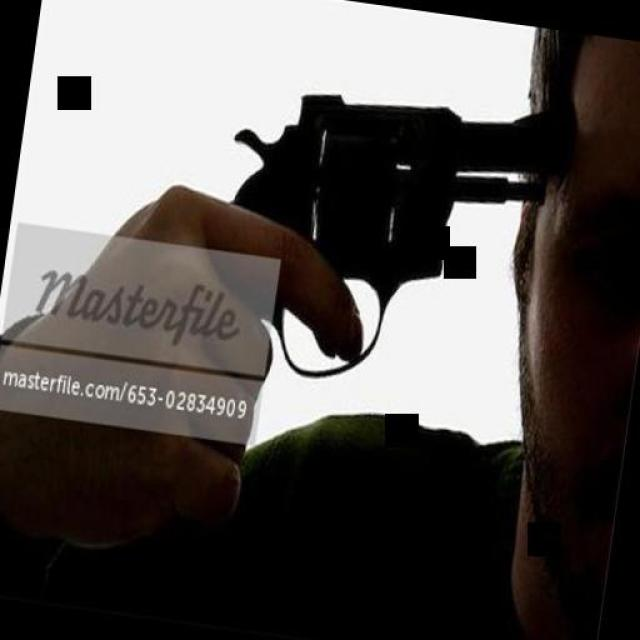gun: (146, 38, 605, 448)
